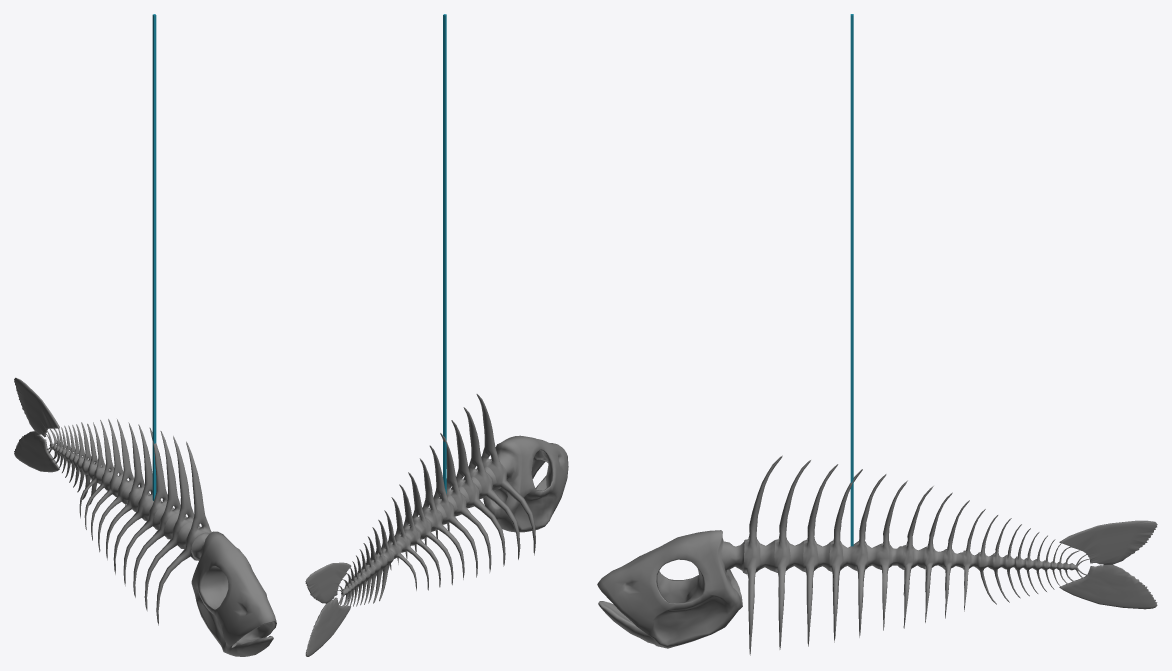
The model's file is fish.obj.
The picture shows the model from 3 angles, left to right: view 1: azimuth 30°, elevation 25°; view 2: azimuth 150°, elevation 25°; view 3: azimuth 270°, elevation 25°; orthographic projection. The views are drawn at different scales.
Visible parts, largest first — view 1: Fish, Box001; view 2: Fish, Box001; view 3: Fish, Box001.
Part boxes in pixels (x1,y1,x2,y2): Fish: (14,377,276,656); Box001: (152,14,156,500); Fish: (305,394,568,656); Box001: (443,14,446,493); Fish: (597,455,1157,655); Box001: (850,14,853,546).
Size of the model in its own units: 3.84 by 23.77 by 19.13.
